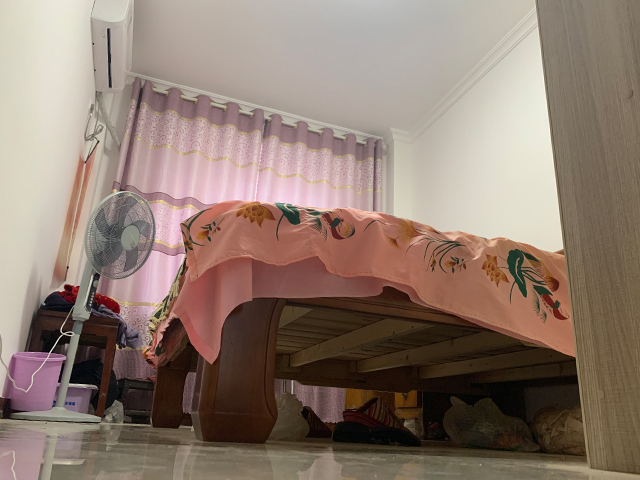bed: (141, 200, 577, 445)
curtain: (94, 76, 384, 424)
stool: (23, 307, 120, 419)
trashcan: (9, 350, 67, 413)
